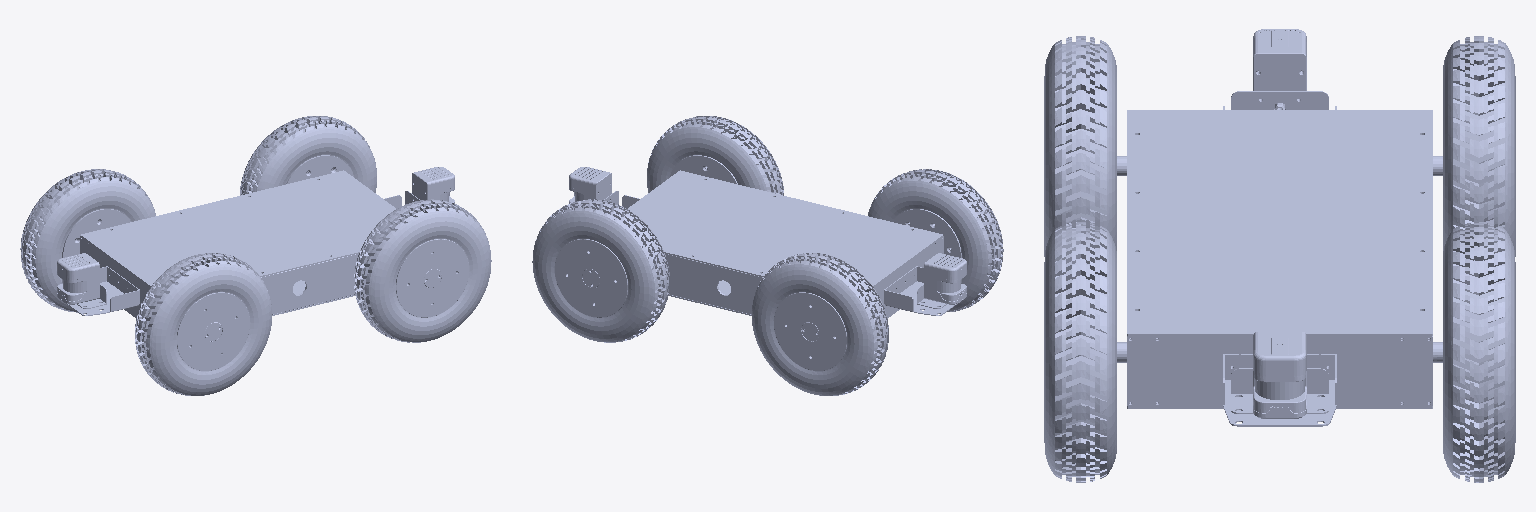
The robot description file, URDF, robot "adl200_description":
<?xml version="1.0" encoding="utf-8"?>
<!-- This URDF was automatically created by SolidWorks to URDF Exporter! Originally created by [author] ([email redacted]) 
     Commit Version: 1.6.0-1-g15f4949  Build Version: 1.6.7594.29634
     For more information, please see http://wiki.ros.org/sw_urdf_exporter -->
<robot
  name="adl200_description">
  <link name="base_footprint"/>
  <link
    name="base_link">
    <inertial>
      <origin
        xyz="-1.73105762239778E-06 2.6645087998255E-06 0.159996924441697"
        rpy="0 0 0" />
      <mass
        value="21.834505852523" />
      <inertia
        ixx="0.106497717682646"
        ixy="5.71705519912713E-06"
        ixz="-1.10089621138951E-07"
        iyy="0.232219887353151"
        iyz="5.36288902434558E-07"
        izz="0.191241633229091" />
    </inertial>
    <visual>
      <origin
        xyz="0 0 0"
        rpy="0 0 0" />
      <geometry>
        <mesh
          filename="package://adl200_description/meshes/base_link.STL" />
      </geometry>
      <material
        name="">
        <color
          rgba="0.792156862745098 0.819607843137255 0.933333333333333 1" />
      </material>
    </visual>
    <collision>
      <origin
        xyz="0 0 0"
        rpy="0 0 0" />
      <geometry>
        <mesh
          filename="package://adl200_description/meshes/base_link.STL" />
      </geometry>
    </collision>
  </link>
  <link
    name="l_c_wheel">
    <inertial>
      <origin
        xyz="-0.000535586446956005 -0.287346068275047 -0.0011381787298258"
        rpy="0 0 0" />
      <mass
        value="36.3194582839521" />
      <inertia
        ixx="1.88203727778314"
        ixy="0.0462230103604198"
        ixz="-0.000348346986331269"
        iyy="1.93829505406097"
        iyz="-0.00036009975984621"
        izz="3.58983823595777" />
    </inertial>
    <visual>
      <origin
        xyz="0 0 0"
        rpy="0 0 0" />
      <geometry>
        <mesh
          filename="package://adl200_description/meshes/l_c_wheel.STL" />
      </geometry>
      <material
        name="">
        <color
          rgba="1 1 1 1" />
      </material>
    </visual>
    <collision>
      <origin
        xyz="0 0 0"
        rpy="0 0 0" />
      <geometry>
        <mesh
          filename="package://adl200_description/meshes/l_c_wheel.STL" />
      </geometry>
    </collision>
  </link>
  <joint
    name="base_footprint_fixed"
    type="fixed">
    <origin
      xyz="0 0 0.035"
      rpy="0 0 0" />
    <parent
      link="base_footprint" />
    <child
      link="base_link" />
  </joint>
  <joint
    name="l_c_wheel"
    type="continuous">
    <origin
      xyz="0 0.287000000000008 0.160000000000003"
      rpy="0 0 0" />
    <parent
      link="base_link" />
    <child
      link="l_c_wheel" />
    <axis
      xyz="0 -1 0" />
  </joint>
  <link
    name="r_c_wheel">
    <inertial>
      <origin
        xyz="-0.000535586446965511 0.286653931724963 -0.00113817872982513"
        rpy="0 0 0" />
      <mass
        value="36.3194582839521" />
      <inertia
        ixx="1.88203727778314"
        ixy="0.0462230103604199"
        ixz="-0.000348346986331513"
        iyy="1.93829505406097"
        iyz="-0.000360099759845944"
        izz="3.58983823595777" />
    </inertial>
    <visual>
      <origin
        xyz="0 0 0"
        rpy="0 0 0" />
      <geometry>
        <mesh
          filename="package://adl200_description/meshes/r_c_wheel.STL" />
      </geometry>
      <material
        name="">
        <color
          rgba="1 1 1 1" />
      </material>
    </visual>
    <collision>
      <origin
        xyz="0 0 0"
        rpy="0 0 0" />
      <geometry>
        <mesh
          filename="package://adl200_description/meshes/r_c_wheel.STL" />
      </geometry>
    </collision>
  </link>
  <joint
    name="r_c_wheel"
    type="continuous">
    <origin
      xyz="0 -0.287000000000002 0.160000000000003"
      rpy="0 0 0" />
    <parent
      link="base_link" />
    <child
      link="r_c_wheel" />
    <axis
      xyz="0 1 0" />
  </joint>
  <link
    name="f_l">
    <inertial>
      <origin
        xyz="-0.00399339122103681 1.7426132098864E-07 0.00340398596098868"
        rpy="0 0 0" />
      <mass
        value="0.0542719134282797" />
      <inertia
        ixx="7.61711991455403E-05"
        ixy="-1.73202293646988E-10"
        ixz="-4.32087698011787E-07"
        iyy="5.66798180736113E-05"
        iyz="-9.82923338437075E-11"
        izz="3.9708974246813E-05" />
    </inertial>
    <visual>
      <origin
        xyz="0 0 0"
        rpy="0 0 0" />
      <geometry>
        <mesh
          filename="package://adl200_description/meshes/f_l.STL" />
      </geometry>
      <material
        name="">
        <color
          rgba="0.792156862745098 0.819607843137255 0.933333333333333 1" />
      </material>
    </visual>
    <collision>
      <origin
        xyz="0 0 0"
        rpy="0 0 0" />
      <geometry>
        <mesh
          filename="package://adl200_description/meshes/f_l.STL" />
      </geometry>
    </collision>
  </link>
  <joint
    name="f_l"
    type="continuous">
    <origin
      xyz="0.43917 0 0.202849999999996"
      rpy="0 0 0" />
    <parent
      link="base_link" />
    <child
      link="f_l" />
    <axis
      xyz="0 0 -1" />
  </joint>
  <link
    name="r_l">
    <inertial>
      <origin
        xyz="-0.00599334263797058 2.41513646772468E-08 0.00340400787697359"
        rpy="0 0 0" />
      <mass
        value="0.0542720029871697" />
      <inertia
        ixx="7.61712481494335E-05"
        ixy="-1.47499652761418E-11"
        ixz="-4.32108252749279E-07"
        iyy="5.66798536527865E-05"
        iyz="3.65833383092367E-12"
        izz="3.97090281405654E-05" />
    </inertial>
    <visual>
      <origin
        xyz="0 0 0"
        rpy="0 0 0" />
      <geometry>
        <mesh
          filename="package://adl200_description/meshes/r_l.STL" />
      </geometry>
      <material
        name="">
        <color
          rgba="0.792156862745098 0.819607843137255 0.933333333333333 1" />
      </material>
    </visual>
    <collision>
      <origin
        xyz="0 0 0"
        rpy="0 0 0" />
      <geometry>
        <mesh
          filename="package://adl200_description/meshes/r_l.STL" />
      </geometry>
    </collision>
  </link>
  <joint
    name="r_l"
    type="continuous">
    <origin
      xyz="-0.441170000000004 0 0.202849999999996"
      rpy="0 0 3.14159265358979" />
    <parent
      link="base_link" />
    <child
      link="r_l" />
    <axis
      xyz="0 0 -1" />
  </joint>
</robot>

--- What the picture shows (computed from the rendered views, not written in the file) ---
Views: 3 orthographic renders of the robot side by side, from view 1: azimuth 30°, elevation 25°; view 2: azimuth 150°, elevation 25°; view 3: azimuth 270°, elevation 25°.
Model adl200_description with 6 links and 5 joints (4 continuous, 1 fixed), rooted at base_footprint, posed every joint at zero.
Visible links, largest first — view 1: base_link, r_l, f_l; view 2: base_link, r_l, f_l; view 3: base_link, f_l, r_l.
Boxes of the visible links, x1,y1,x2,y2 form: base_link: (20,116,491,395); r_l: (57,253,99,304); f_l: (412,167,454,203); base_link: (532,116,1003,395); r_l: (924,253,966,304); f_l: (569,167,611,203); base_link: (1044,36,1515,482); f_l: (1253,332,1306,418); r_l: (1253,29,1306,109).
Bounding box of the posed robot: 0.956 × 0.5773 × 0.32 m (x, y, z).
3 mesh visuals loaded from 5 distinct referenced files (3 binary STL); not drawn: 2 (file found but could not be loaded).